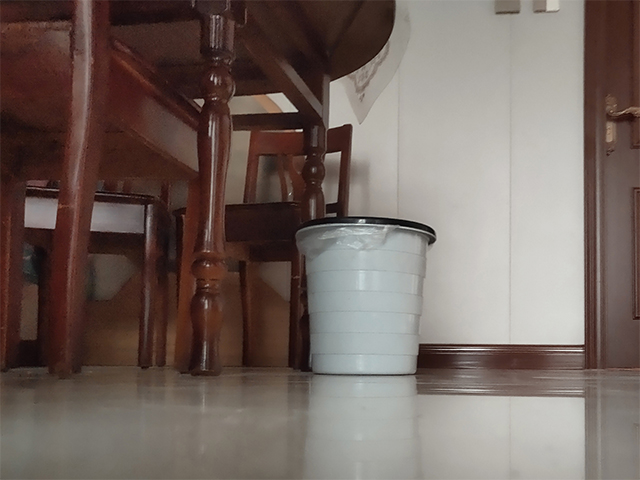stool: (1, 1, 203, 381), (169, 123, 356, 371)
table: (1, 1, 401, 380)
trashcan: (293, 213, 437, 378)
